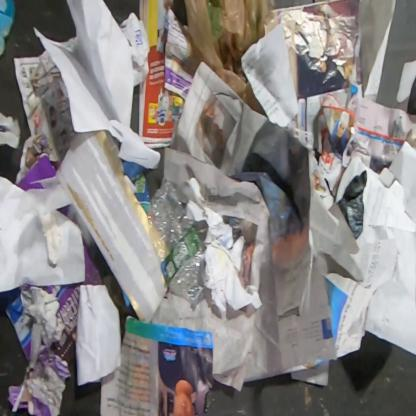cardboard: (36, 235, 106, 366), (0, 286, 40, 360), (13, 150, 58, 193)
rigid_plastic: (148, 182, 206, 311)
soft_plastic: (185, 0, 270, 119)
